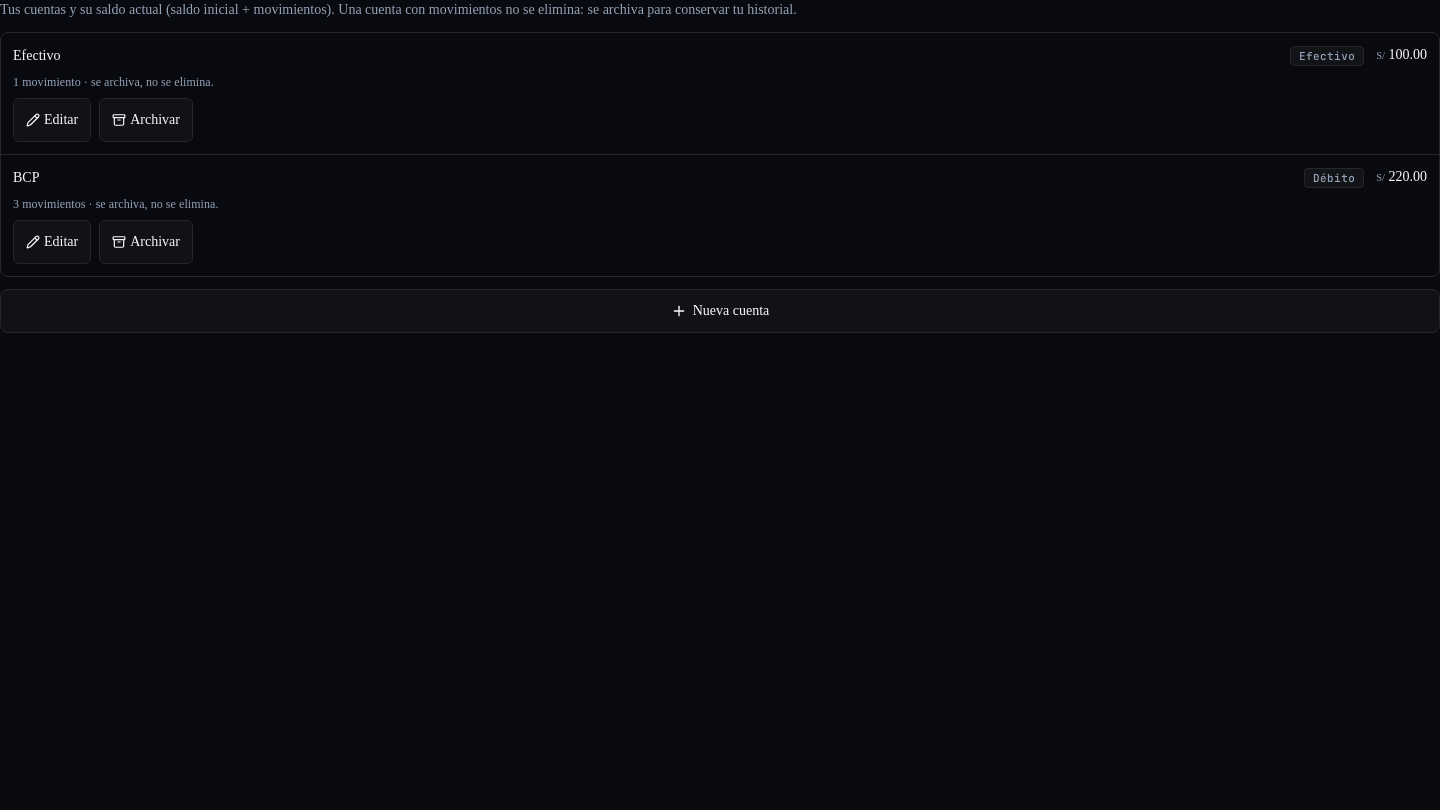
it: PaymentAccountSettings › rejects an empty name and a malformed balance without saving
Click the button "Nueva cuenta": (720, 311) [0,289,1439,333]
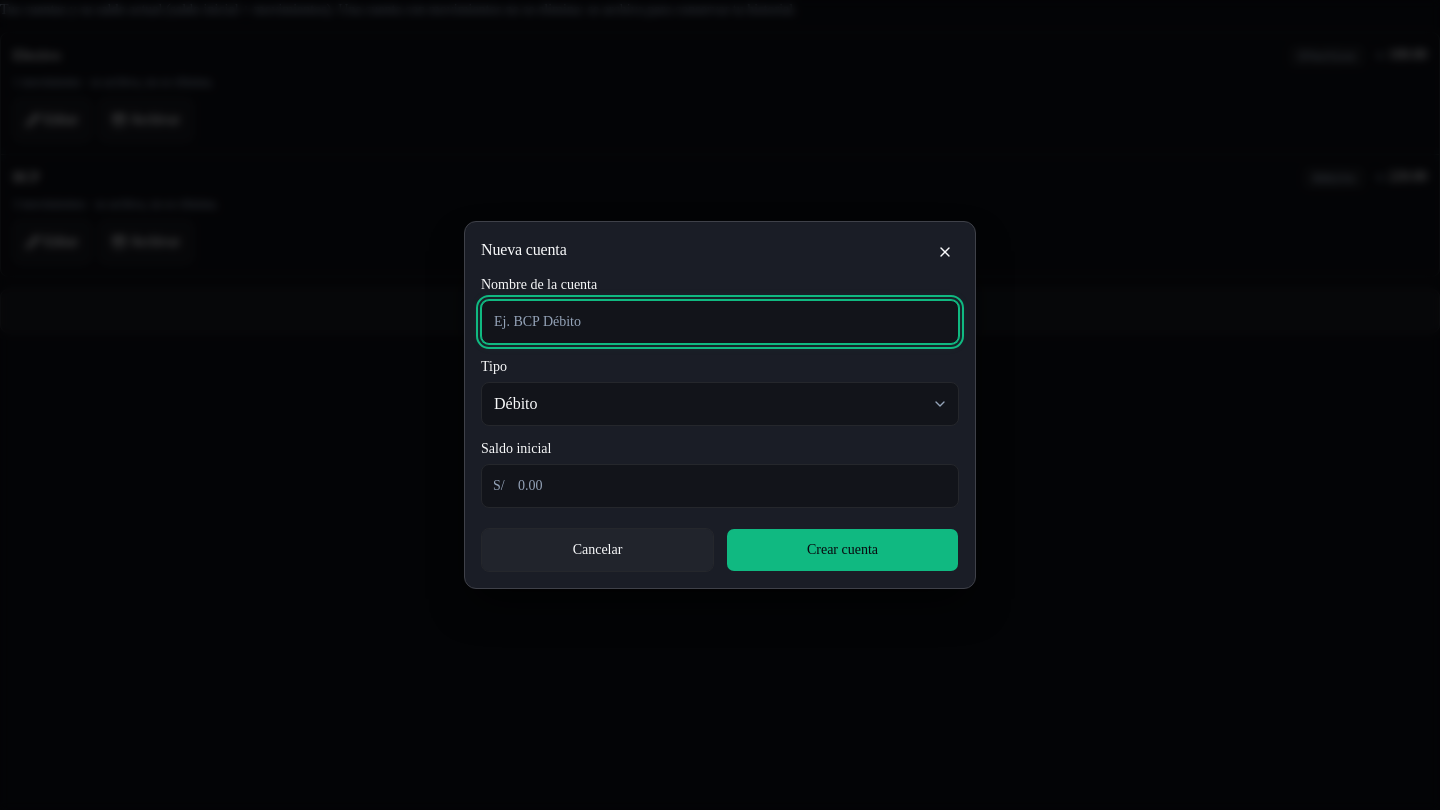
Click the button "Crear cuenta": (842, 550) [726,528,959,572]
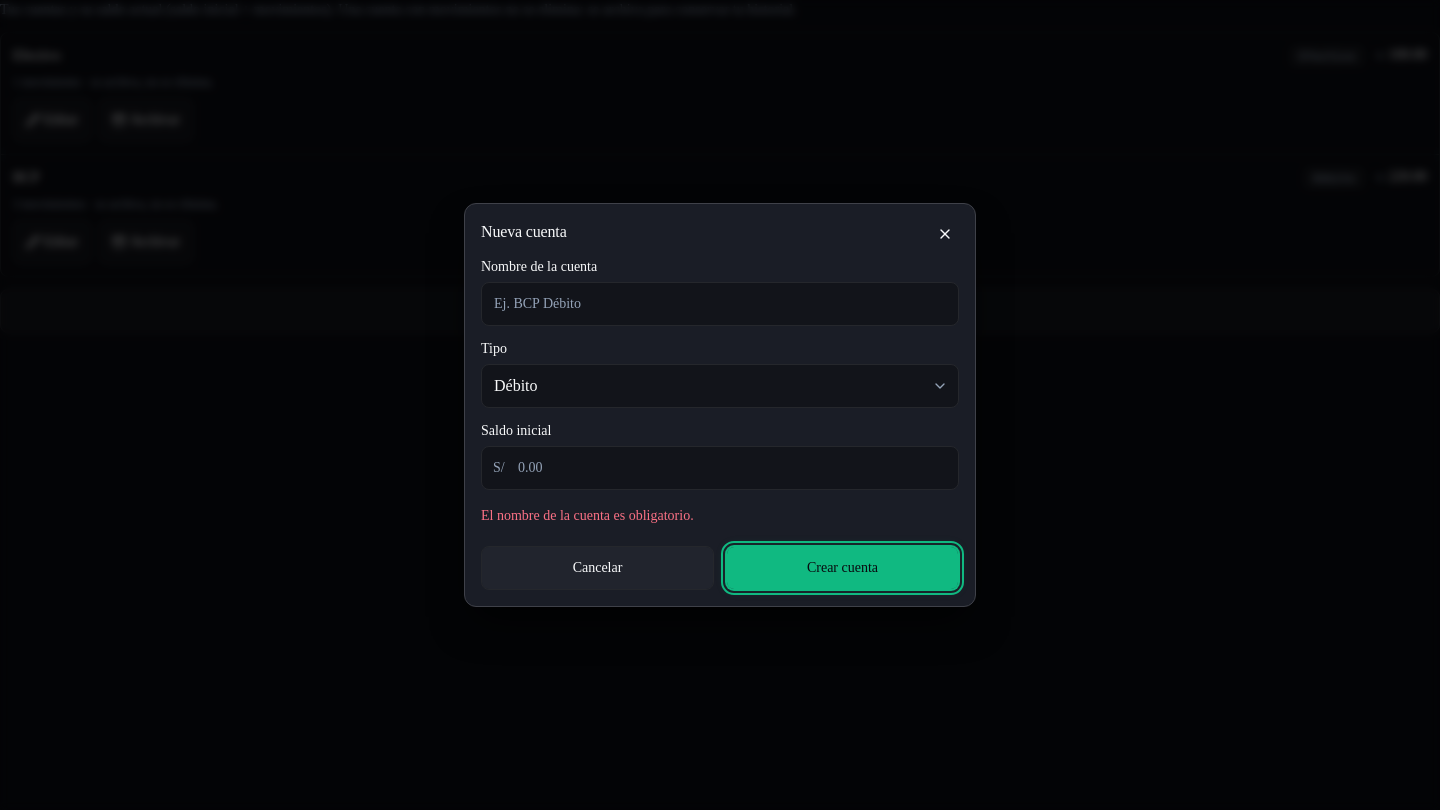
Expected: the text "El nombre de la cuenta es obligatorio." is shown, [481,508,694,523]
In the field labelled "Nombre de la cuenta": (720, 304) [481,282,959,326], type "X"
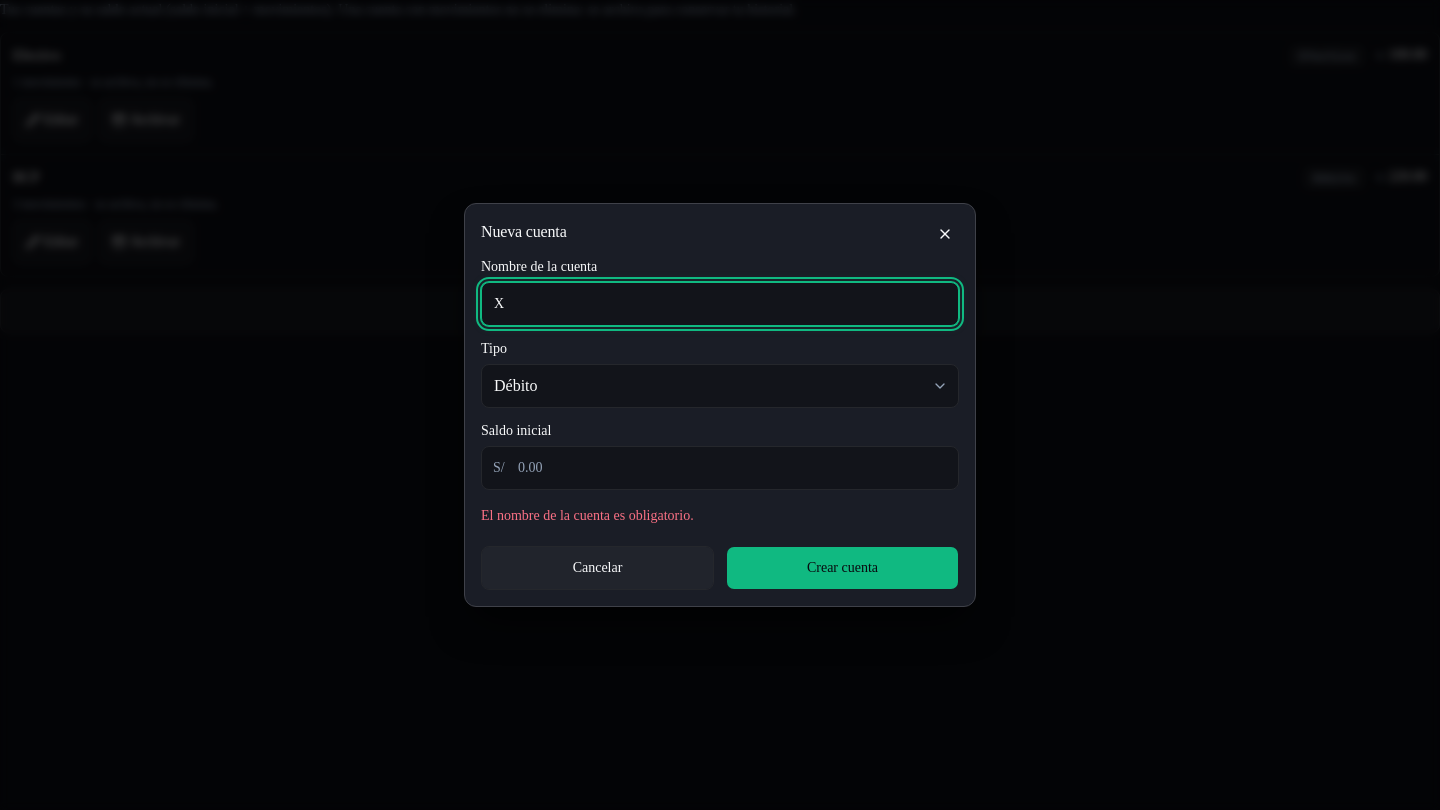
In the field labelled "Saldo inicial": (720, 468) [481,446,959,490], type "1.234"
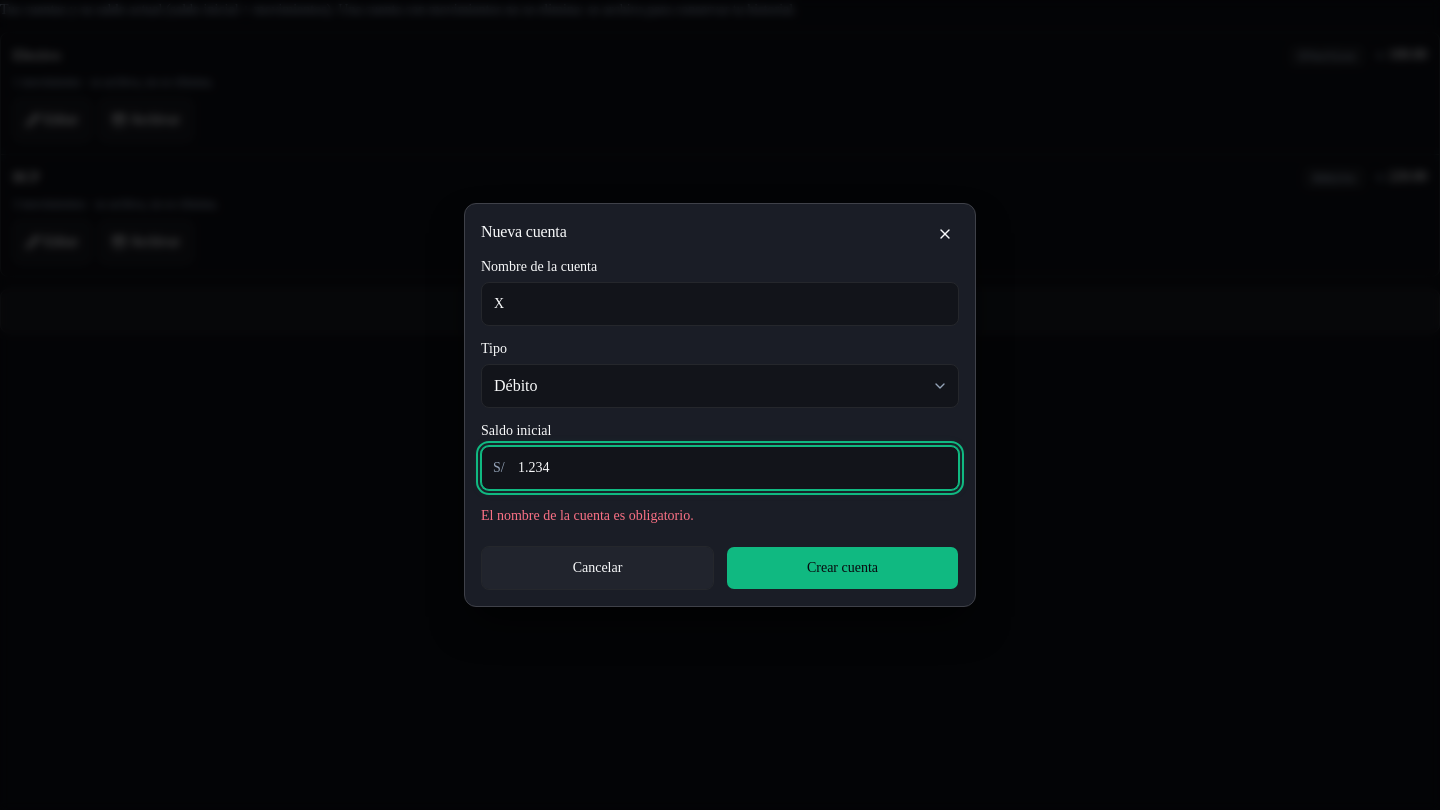
Click the button "Crear cuenta": (842, 568) [726,546,959,590]
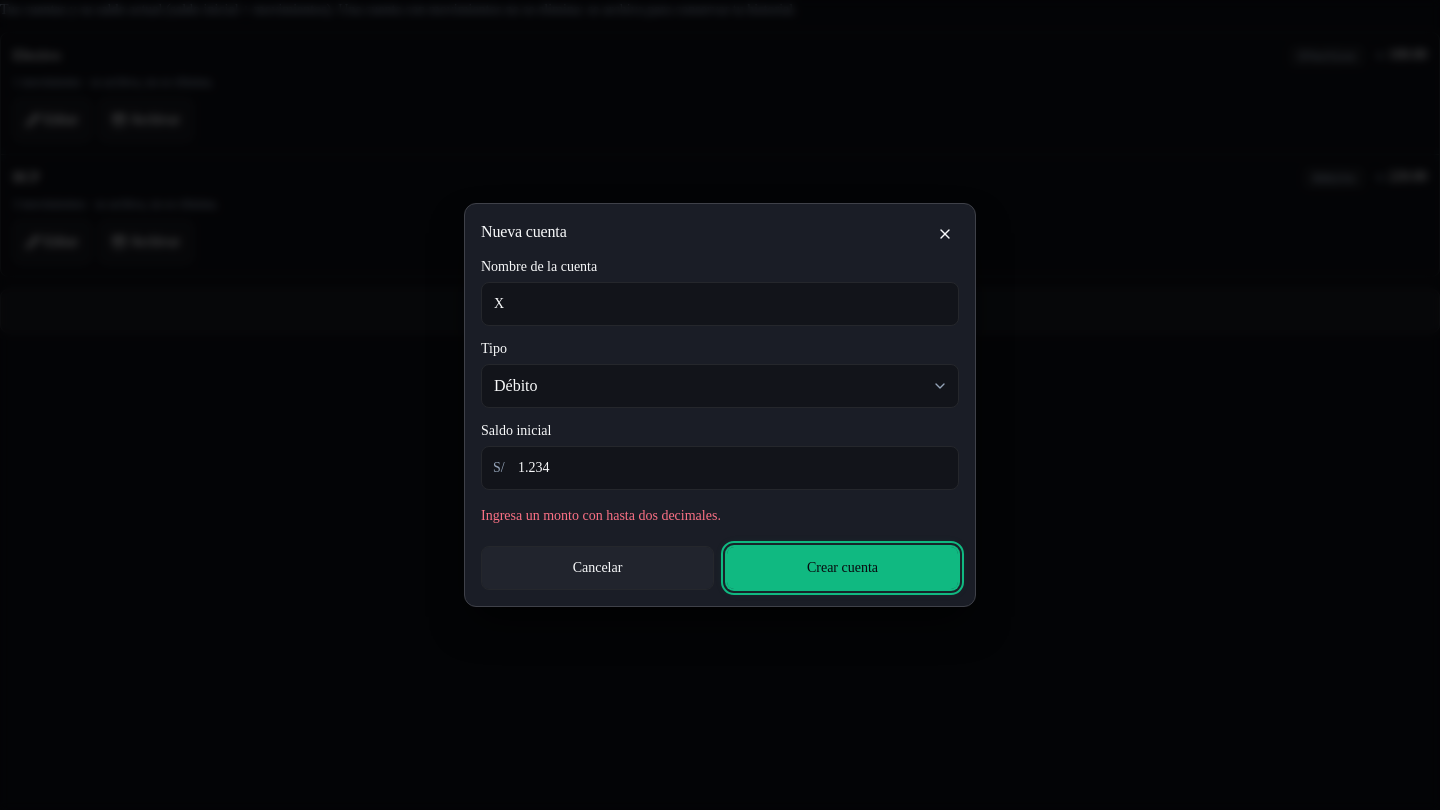
Expected: the text "Ingresa un monto con hasta dos decimales." is shown, [481,508,721,523]
